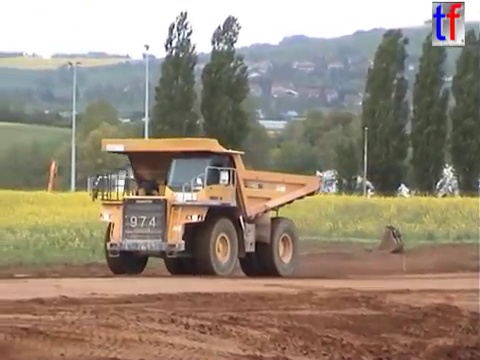truck: (90, 135, 323, 281)
